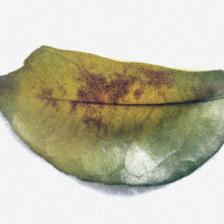black spot: (38, 59, 215, 133)
